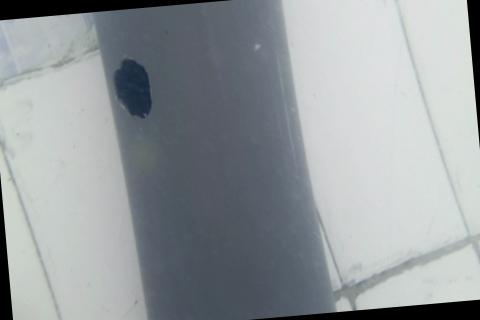kebocoran: (108, 52, 157, 121)
